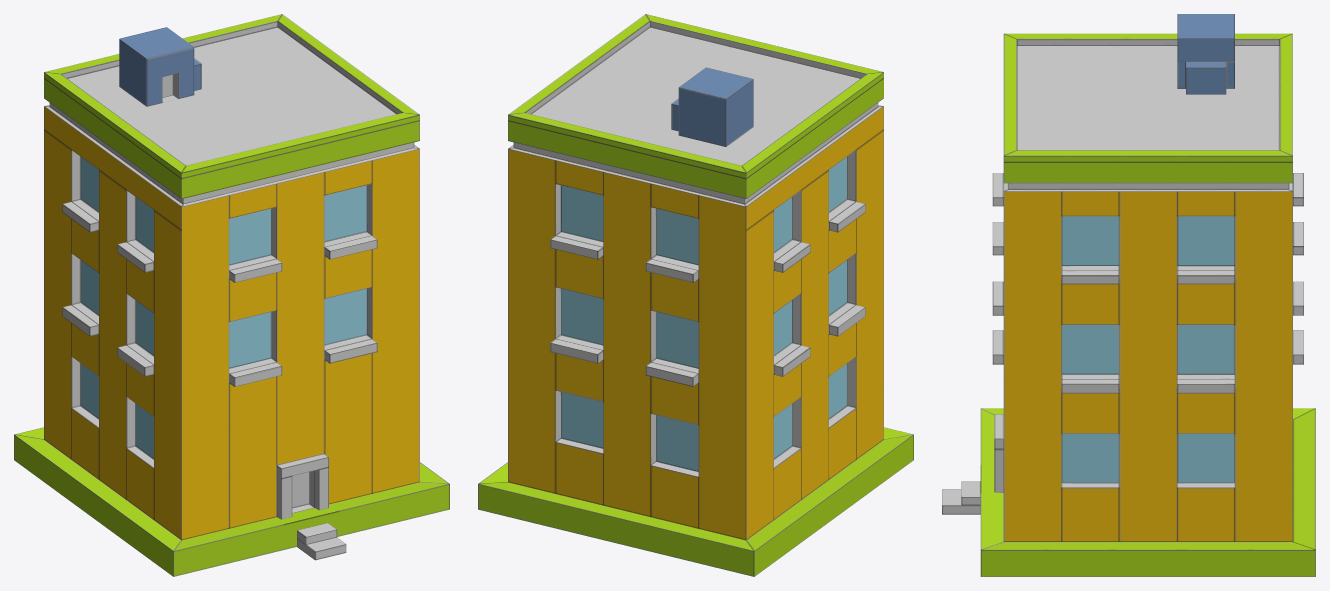
File: building.obj
3 views of the same model, side by side, from view 1: azimuth 30°, elevation 25°; view 2: azimuth 150°, elevation 25°; view 3: azimuth 270°, elevation 25° (orthographic). The views are drawn at different scales.
Parts seen in each view (by area): view 1: Road_Cube.003; view 2: Road_Cube.003; view 3: Road_Cube.003.
Part boxes in pixels (x1=…): Road_Cube.003: x1=14, y1=14, x2=449, y2=576; Road_Cube.003: x1=478, y1=14, x2=913, y2=576; Road_Cube.003: x1=942, y1=14, x2=1315, y2=576.
Size of the model in its own units: 3.01 by 4.52 by 3.36.
Materials: 1 (1 with a texture image).
